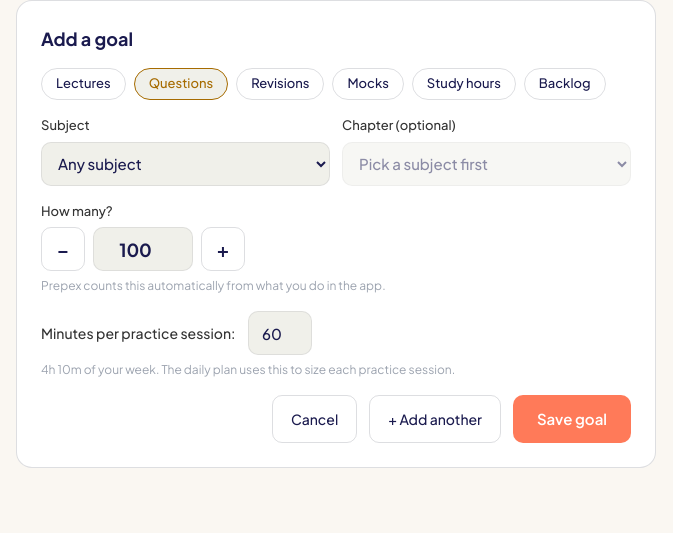
AddGoalPanel › refuses a goal the student already has
The image size is (673, 533).
Click the button with test id "save-goals" at (572, 419), box [513,395,631,443]
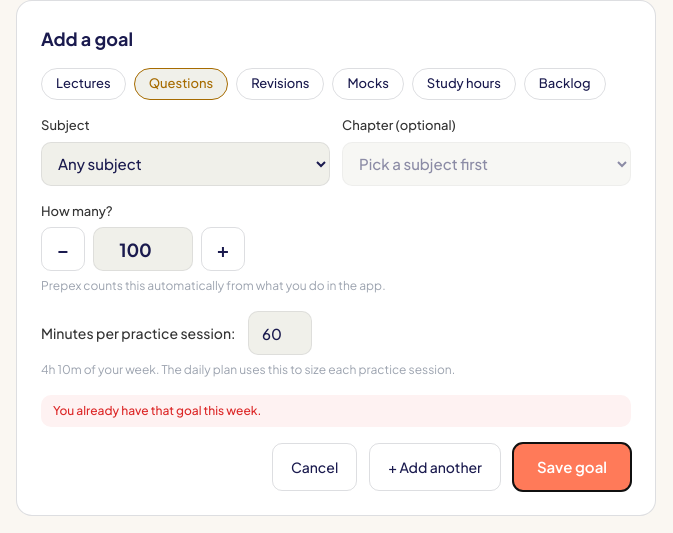
Result: the message reads "You already have that goal this week." at [53,403,261,418]
